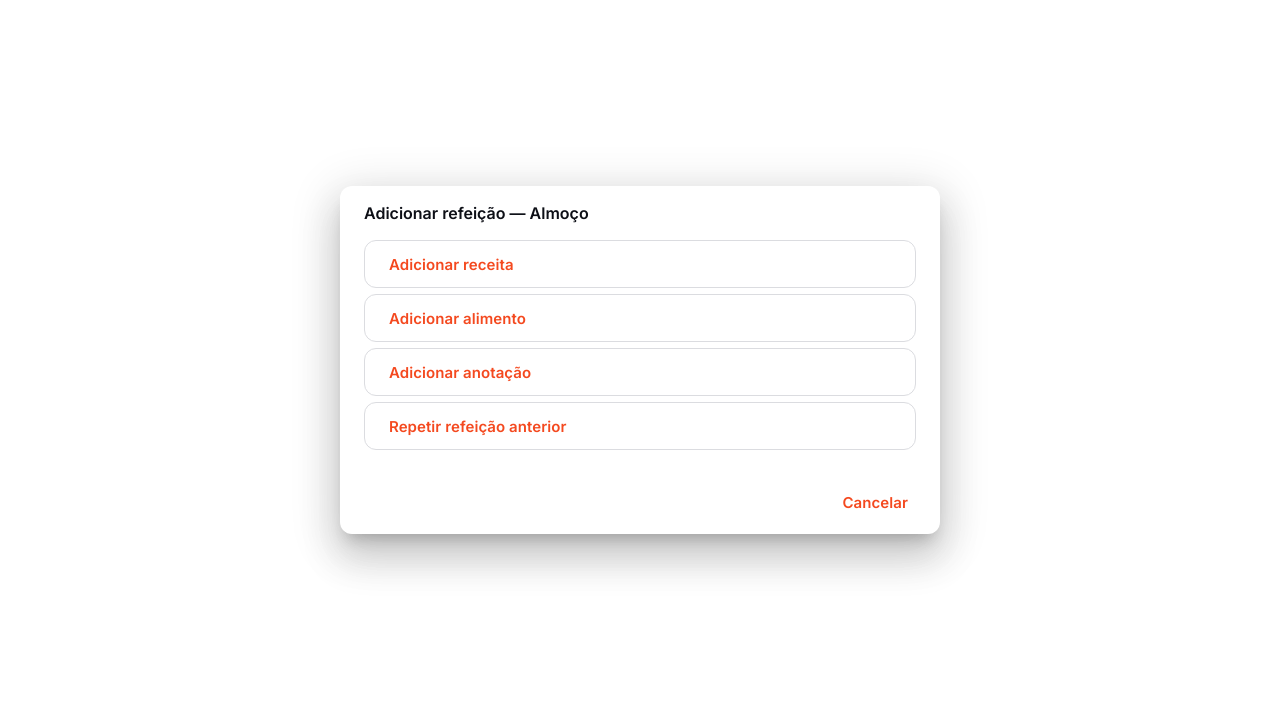
Test: AddMealDialog › adds a second food row and can remove one
Click the button "Adicionar alimento". click: (457, 318)
box: [364,294,916,342]
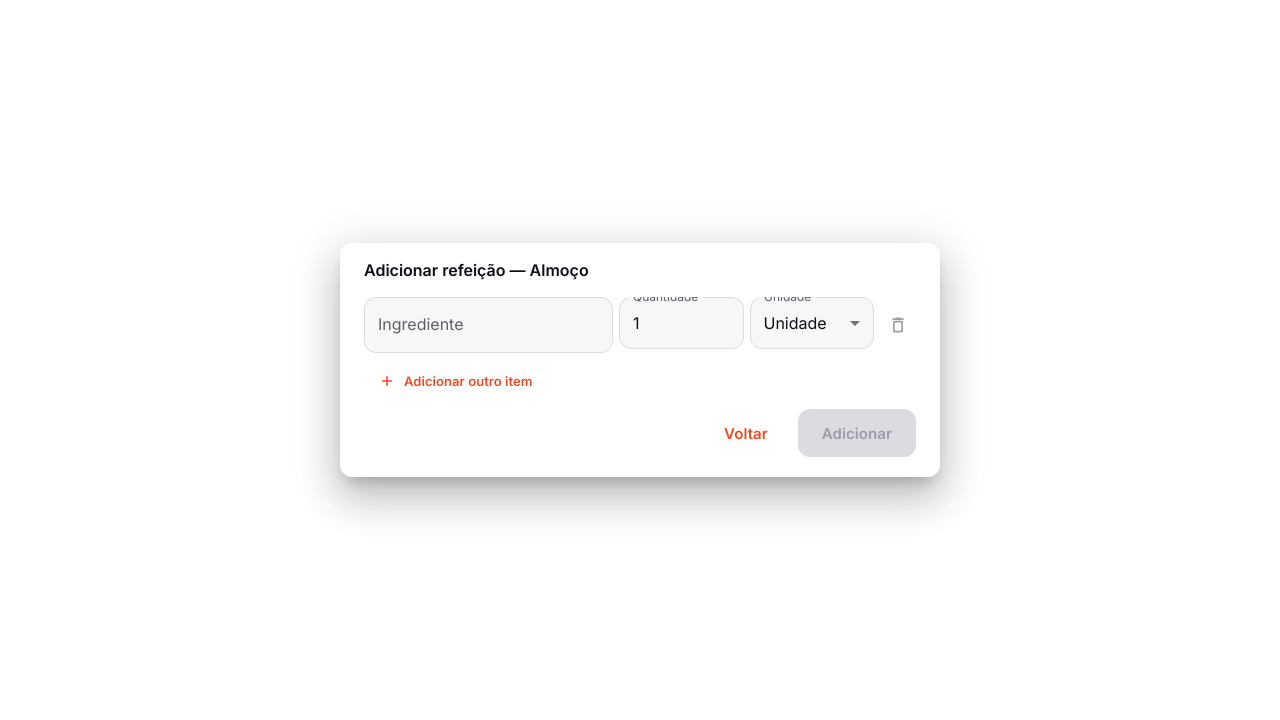
Click the button "Adicionar outro item". click: (456, 381)
box: [364,363,549,399]
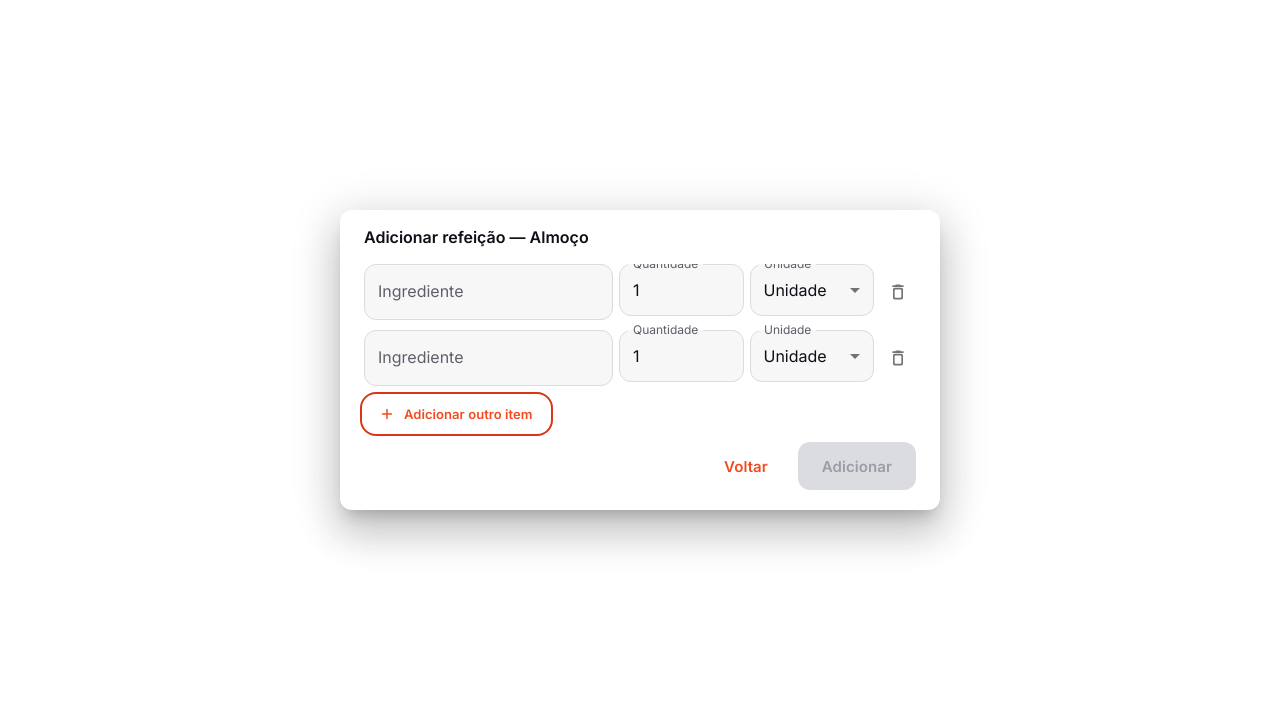
Expected: the number of buttons named "Remover item" is 2
Click the 2nd button named "Remover item". click: (898, 358)
box: [880,340,916,376]
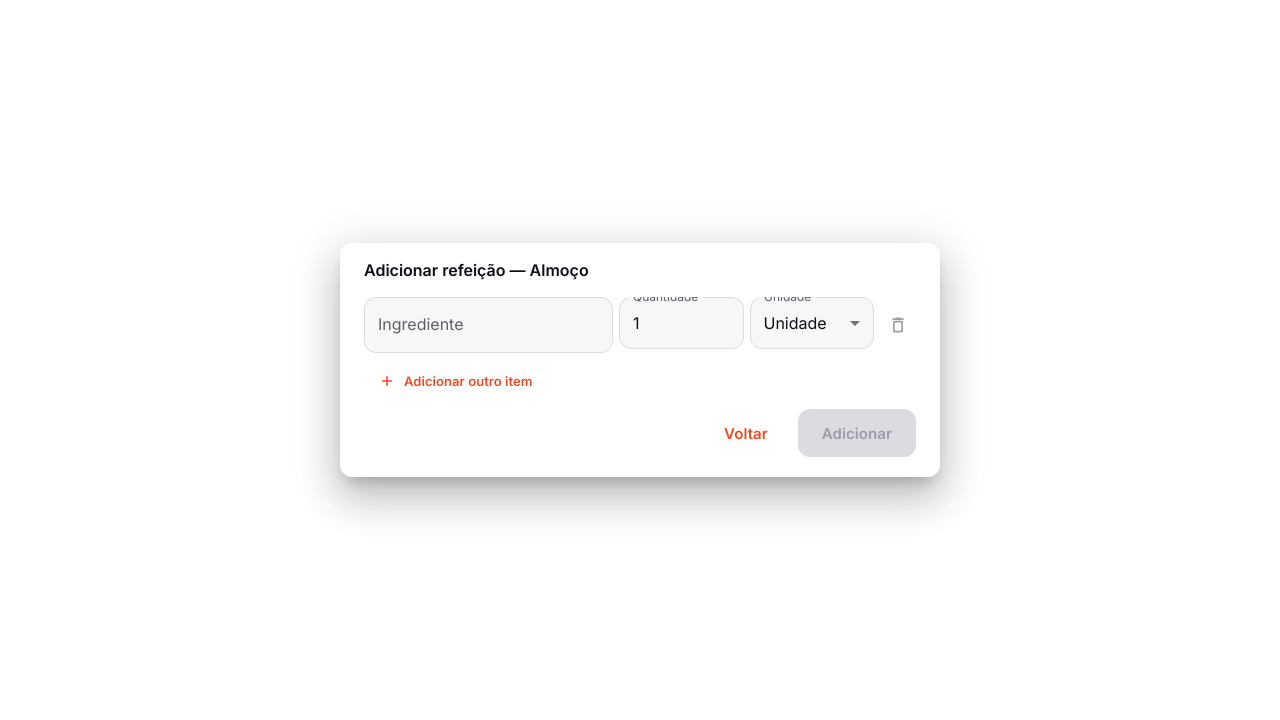
Expected: the number of buttons named "Remover item" is 1, [880,307,916,343]
